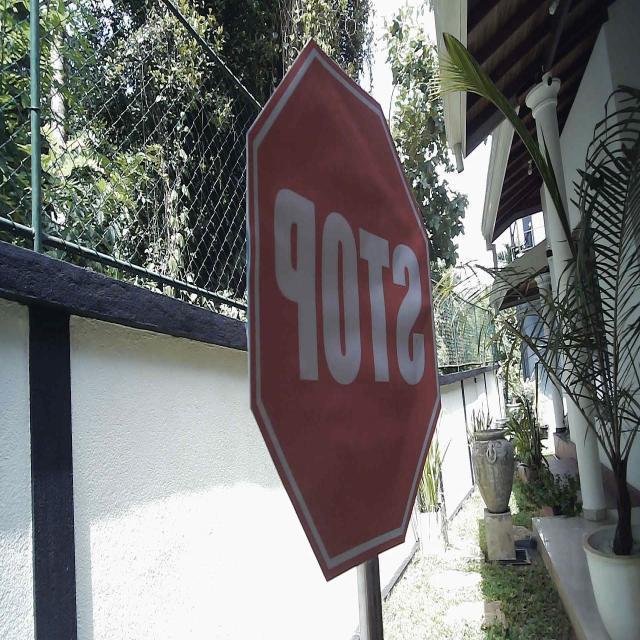stop: (243, 33, 443, 587)
